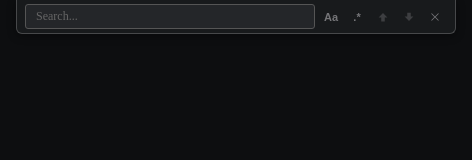
SearchBar › shows "No matches" when query exists and totalMatches is 0
Type "nonexistent" into the field with class "search-input" at {"x": 136, "y": 16}, box x1=32 y1=5 x2=240 y2=28
Wait 150 ms
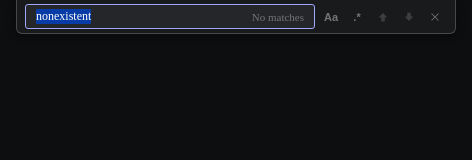
Expected: the text "No matches" is shown, x1=252 y1=10 x2=304 y2=22
